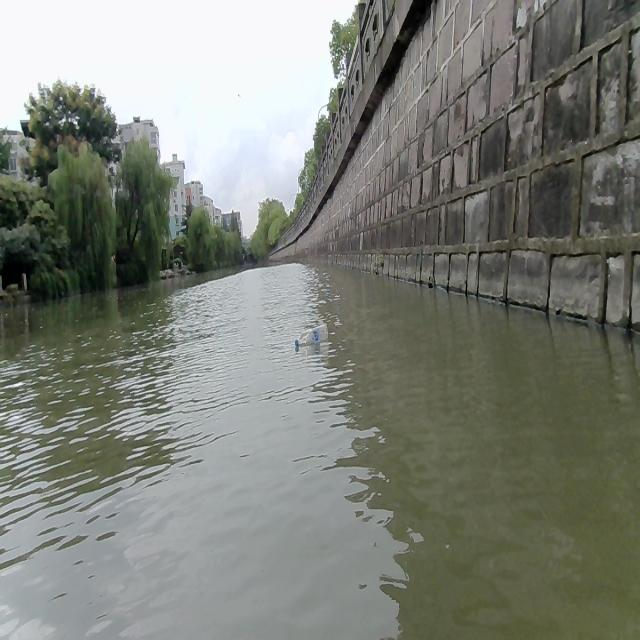bottle: (294, 322, 328, 346)
